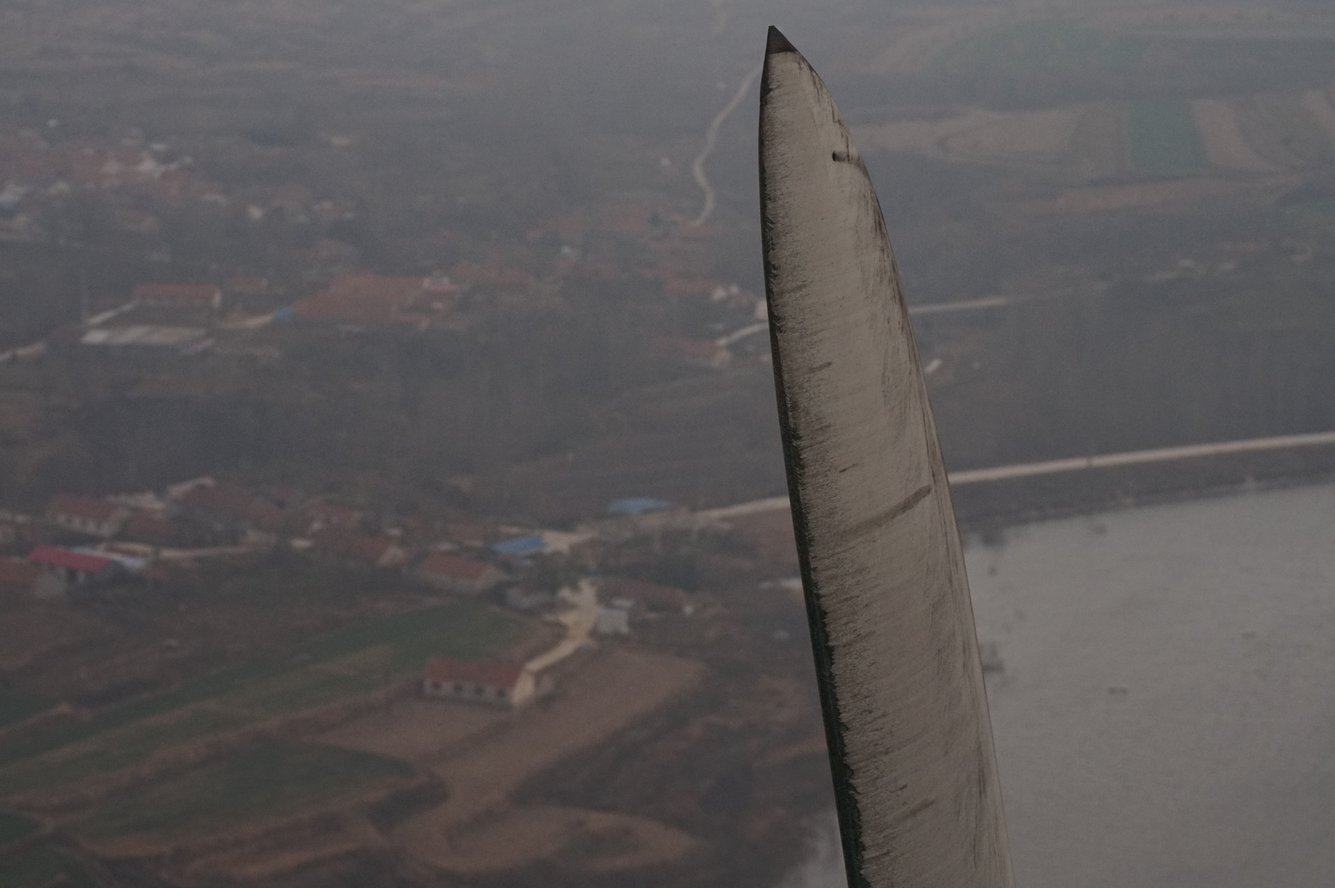Damage: (757, 138, 872, 887), (760, 58, 772, 108)
